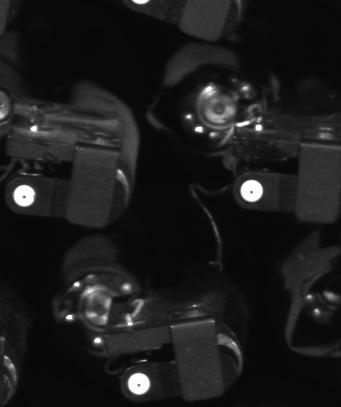fiber: (10, 179, 42, 213), (236, 177, 270, 207), (123, 370, 157, 399)
